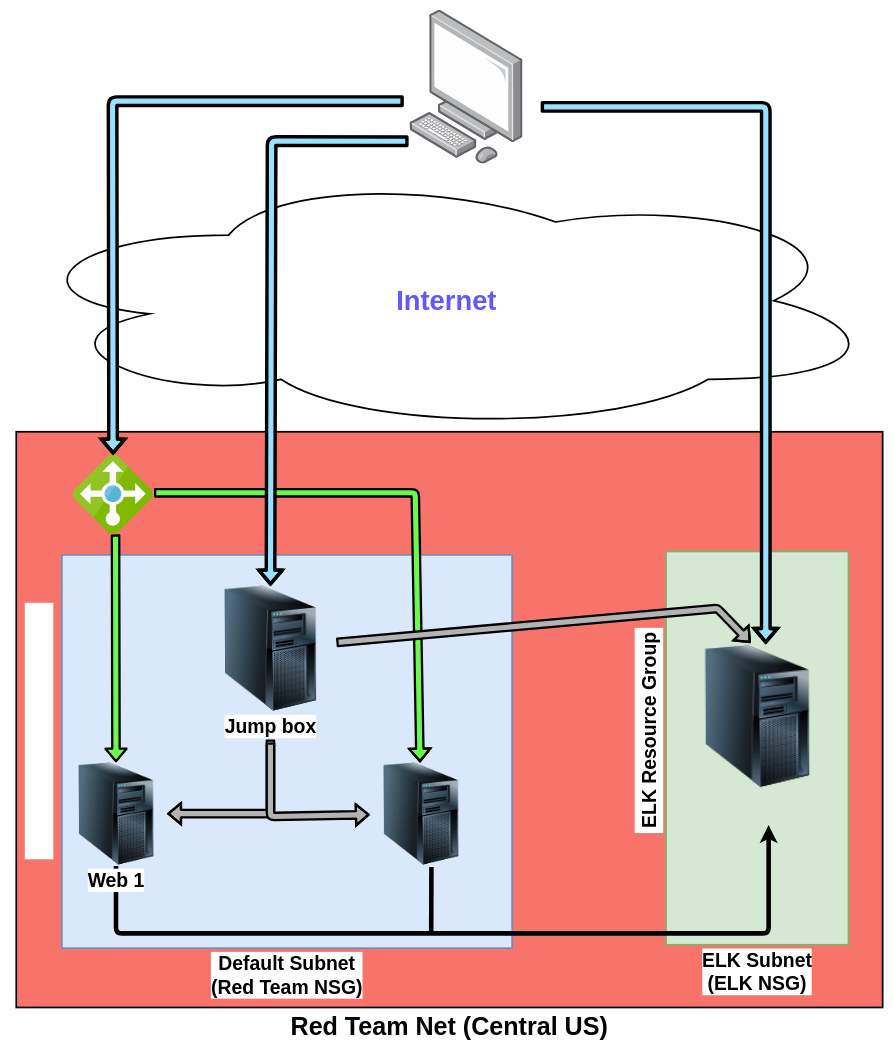
Some shapes in this 893 by 1051 pixel diagram are drawn without their labels. Each missing label, with the centre of its shape:
"ELK Server" goes at [757,716].
"Red Team Resource Group" goes at [39,730].
"Web 2" goes at [420,813].
